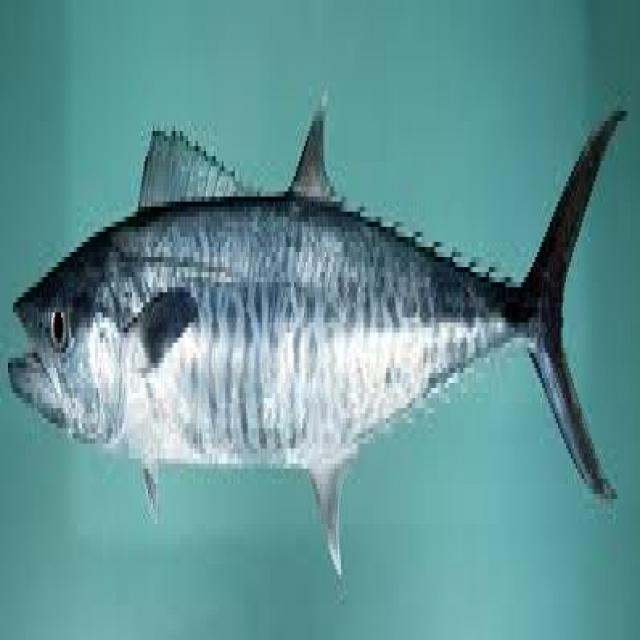King Mackerel: (5, 90, 627, 580)
